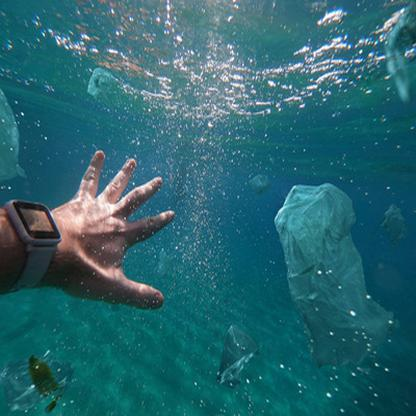plastic bag: (275, 184, 395, 370), (1, 88, 23, 181), (83, 67, 121, 97)
